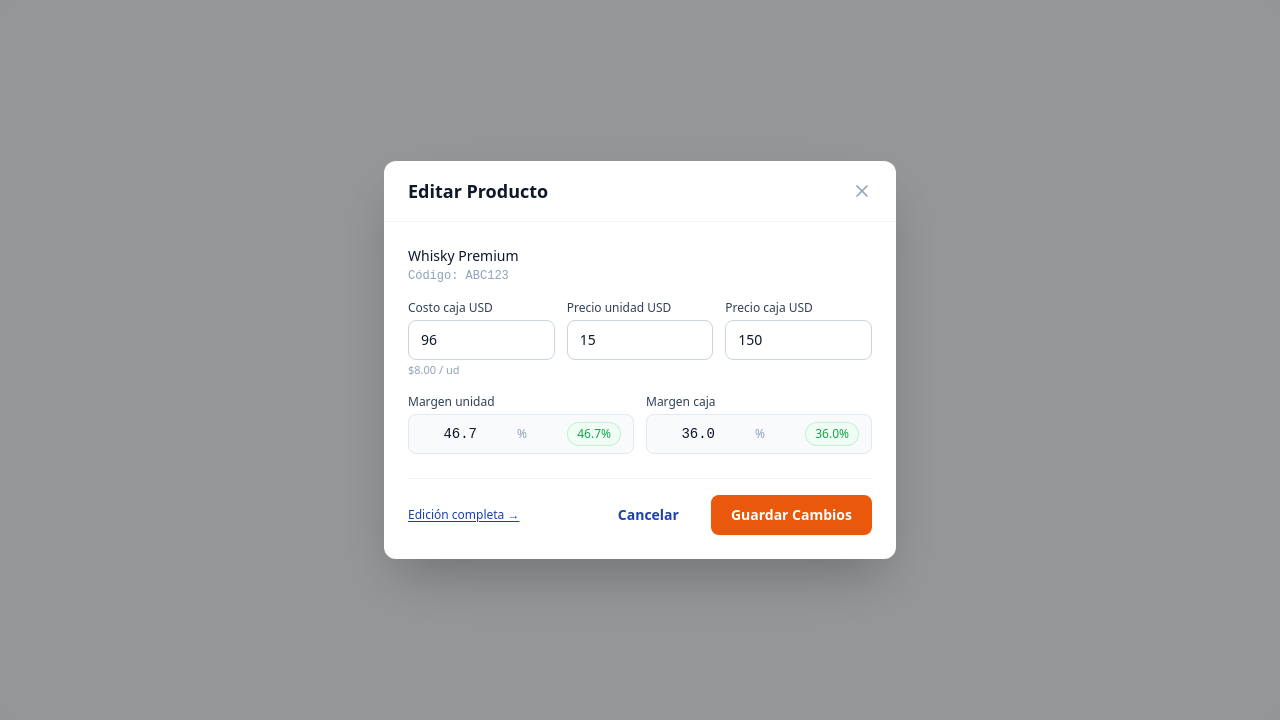
Test case: QuickEditModal › updates precio_caja_usd when typing in margin caja input
Note: Clear and type a new margin percentage
Replace the text in the field next to "36.0%" with "40" at (687, 434), box [659, 424, 715, 444]
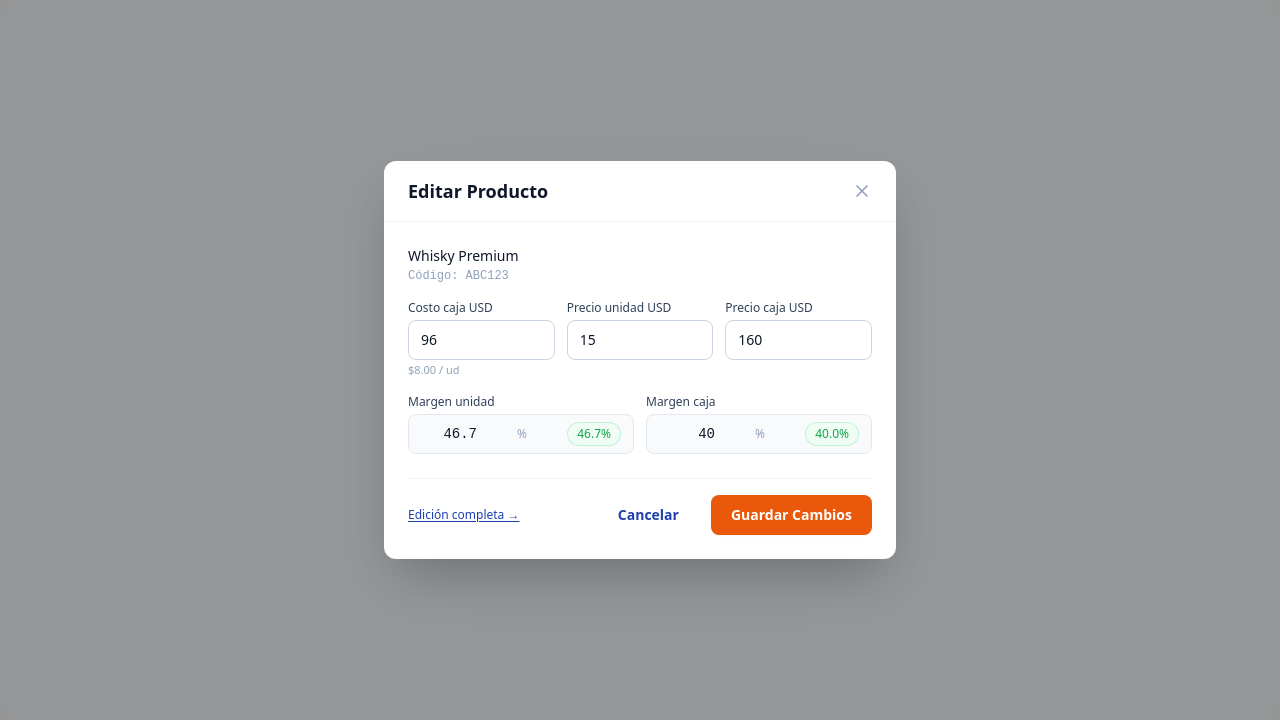
Check: the number field labelled "Precio caja USD" holds "160", box [725, 320, 872, 360]
